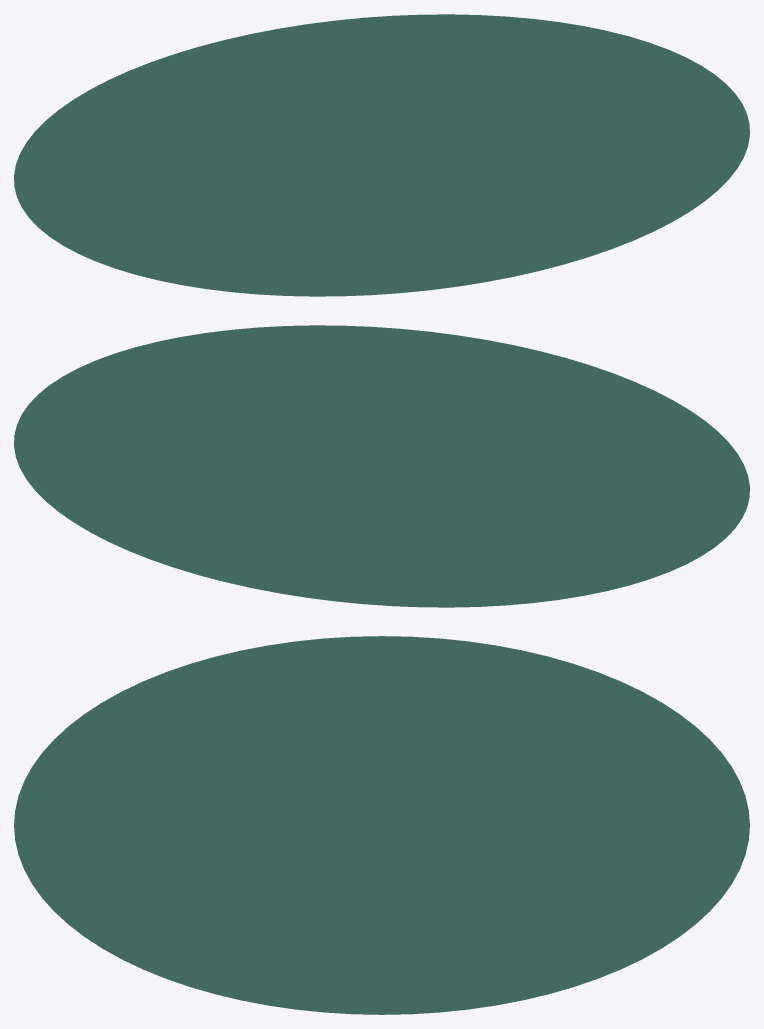
The model's file is SM_LakeSurface.fbx.
3 views of the same model, one above another, from view 1: azimuth 30°, elevation 25°; view 2: azimuth 150°, elevation 25°; view 3: azimuth 270°, elevation 25° (orthographic). The views are drawn at different scales.
Parts seen in each view (by area): view 1: SM_LakeSurface; view 2: SM_LakeSurface; view 3: SM_LakeSurface.
Boxes of the visible parts, x1,y1,x2,y2 form: SM_LakeSurface: (14, 14, 749, 296); SM_LakeSurface: (14, 325, 749, 607); SM_LakeSurface: (14, 636, 749, 1014).
Size of the model in its own units: 33.22 by 27.28 by 0.
